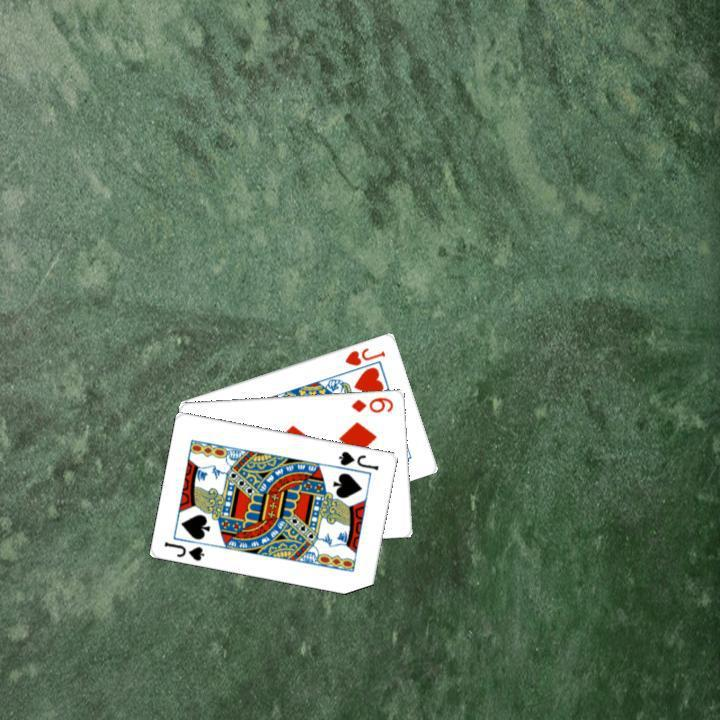6: (347, 393, 396, 414)
J: (334, 446, 381, 472), (160, 537, 206, 562), (341, 343, 387, 367)
